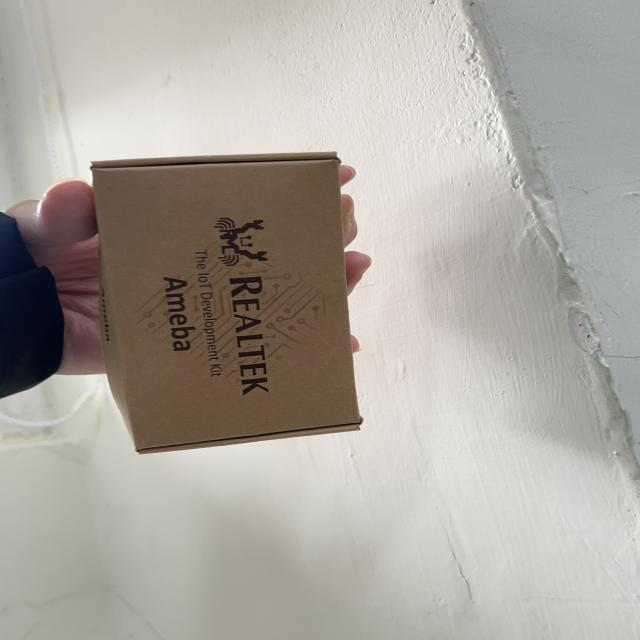box: (81, 152, 377, 459)
